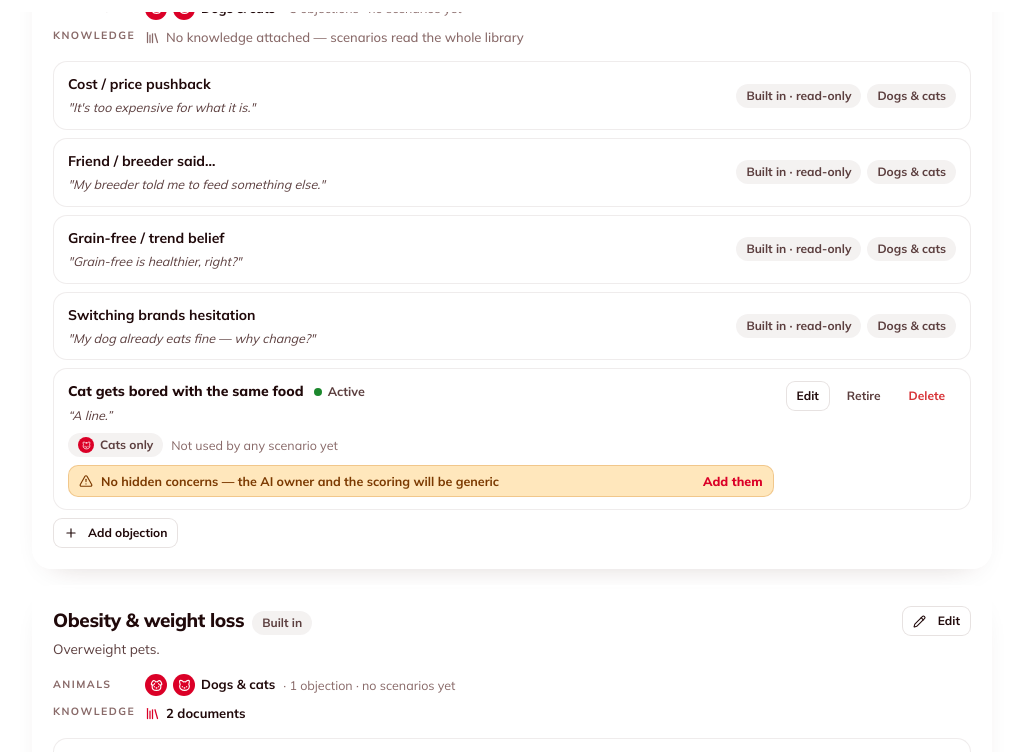
Test case: CategoriesScreen › retires with the version it loaded, so a concurrent edit can’t be overwritten
(page scrolled)
Click the button with aria-label "Retire “Cat gets bored with the same food”" at (864, 396), box [836,381,892,411]
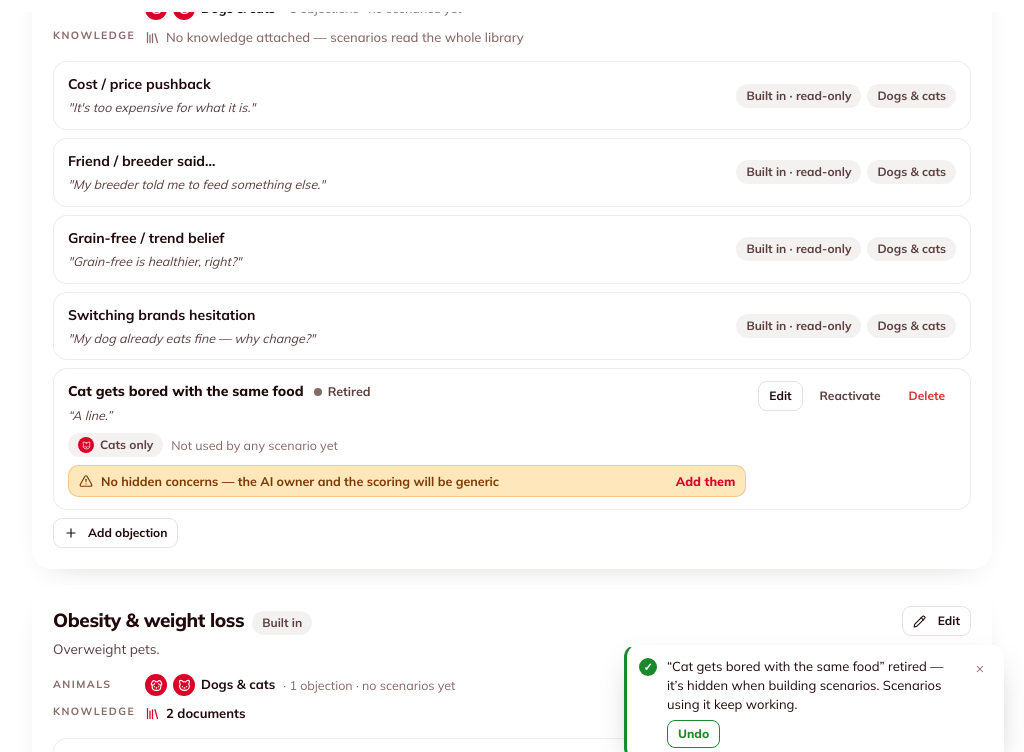
Expected: the button with aria-label "Reactivate “Cat gets bored with the same food”" is shown, [809,381,892,411]
